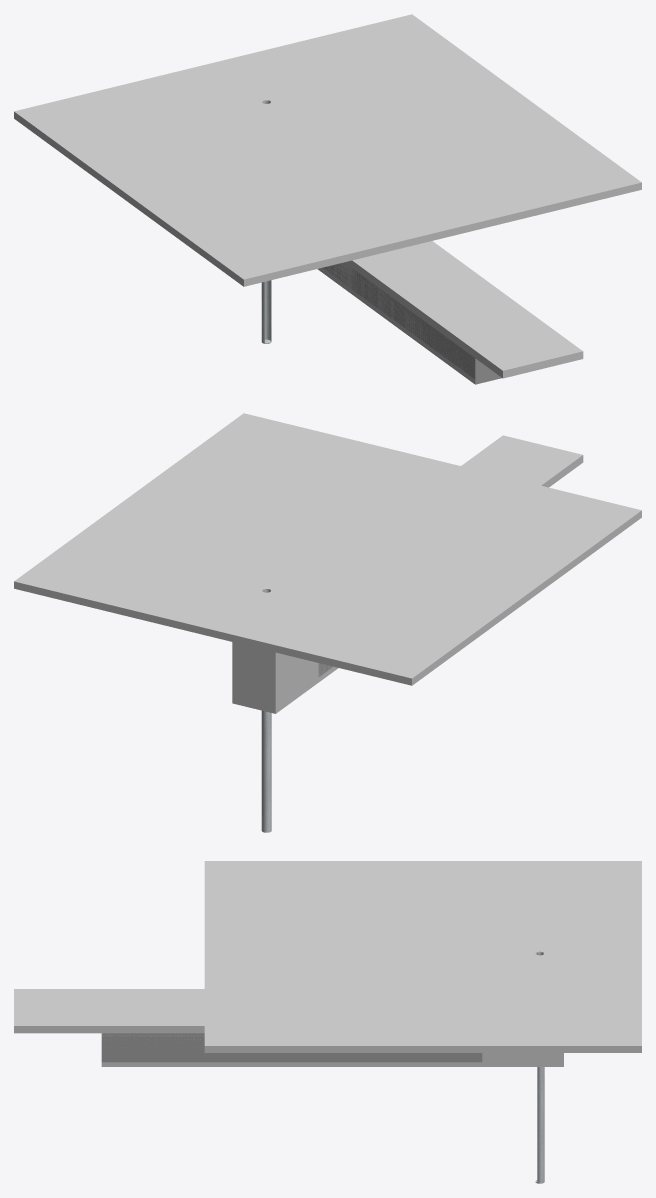
File: lowerlevels.fbx
3 views of the same model, one above another, from view 1: azimuth 30°, elevation 25°; view 2: azimuth 150°, elevation 25°; view 3: azimuth 270°, elevation 25° (orthographic). The views are drawn at different scales.
Parts seen in each view (by area): view 1: pCube2, pCube8, pCube7, pCylinder1; view 2: pCube2, pCube6, pCube8, pCylinder1, pCube5; view 3: pCube2, pCube8, pCube7, pCube6, pCylinder1.
Boxes of the visible parts, left/top/right/bottom form: pCube2: left=14, top=14, right=641, bottom=286; pCube8: left=344, top=241, right=583, bottom=378; pCube7: left=317, top=262, right=501, bottom=384; pCylinder1: left=261, top=100, right=271, bottom=343; pCube2: left=14, top=413, right=641, bottom=685; pCube6: left=232, top=656, right=318, bottom=713; pCube8: left=461, top=435, right=583, bottom=487; pCylinder1: left=261, top=589, right=271, bottom=832; pCube5: left=232, top=642, right=291, bottom=669; pCube2: left=204, top=861, right=641, bottom=1052; pCube8: left=14, top=989, right=204, bottom=1033; pCube7: left=101, top=1033, right=482, bottom=1066; pCube6: left=482, top=1053, right=563, bottom=1066; pCylinder1: left=535, top=952, right=544, bottom=1183.
Bounding box in the file's own units: 1842 × 1062 × 2646.
Materials: 3 (1 with a texture image).
